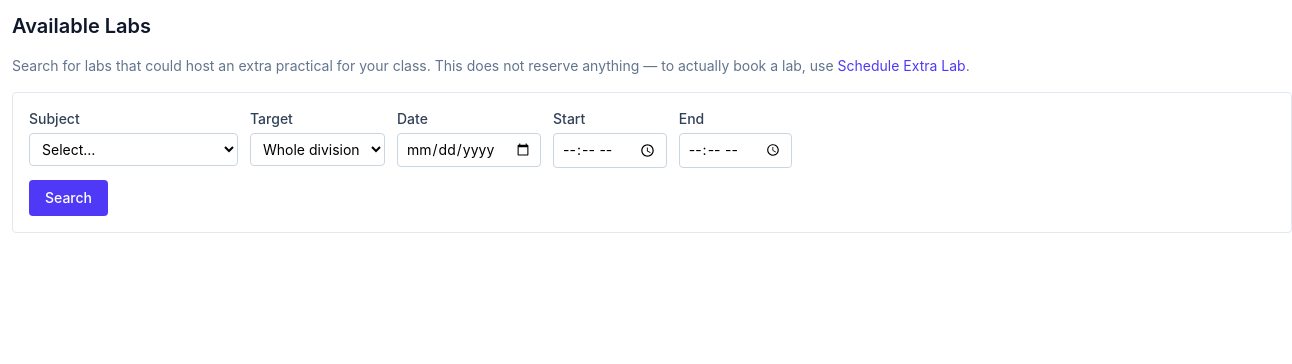
Test: AvailableLabsPage - PART 61/62/63/64/65 (mandatory scenarios) › PART 63 - explains a faculty conflict in plain language
The width and height of the screenshot is (1292, 364).
Step 1. Select "BDA — Big Data Analytics" in the dropdown labelled "Subject" → x=134, y=150, box [29,133,238,166]
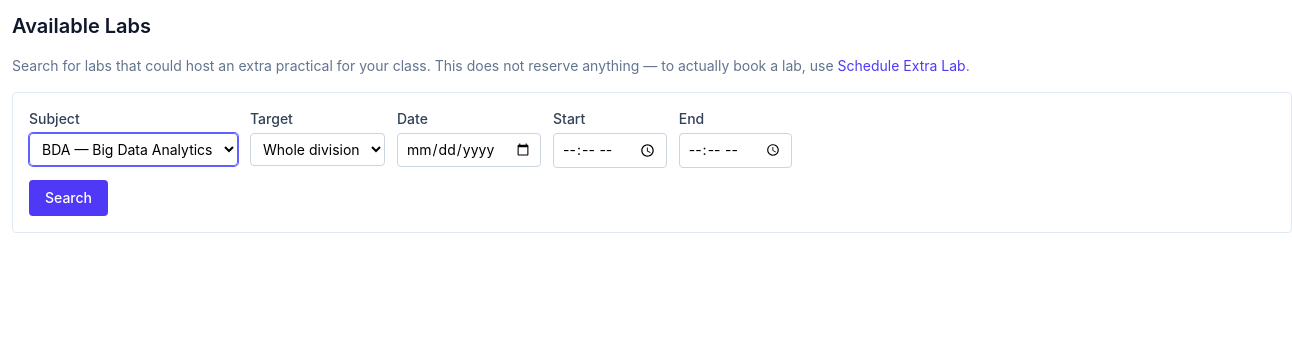
Step 2. Type "2026-08-31" into the date field labelled "Date" → x=469, y=150, box [397,133,541,167]
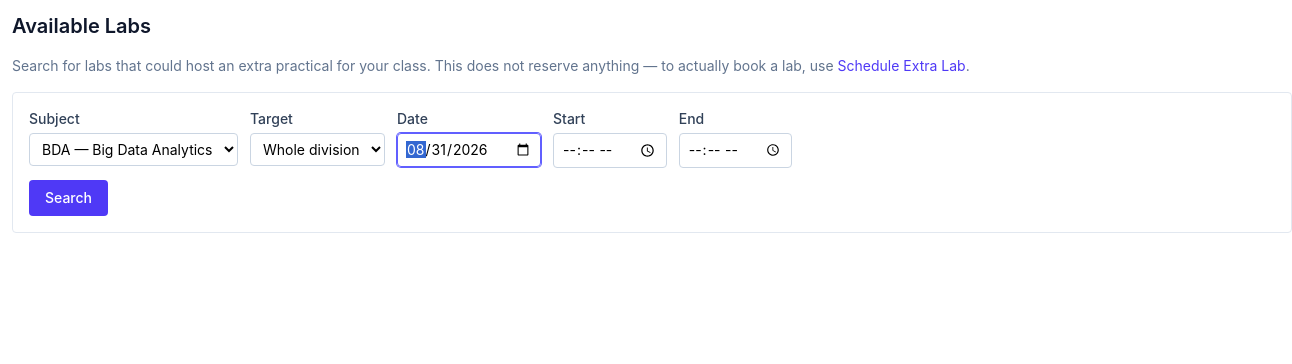
Step 3. Type "09:00" into the time field labelled "Start" → x=610, y=150, box [553,133,667,168]
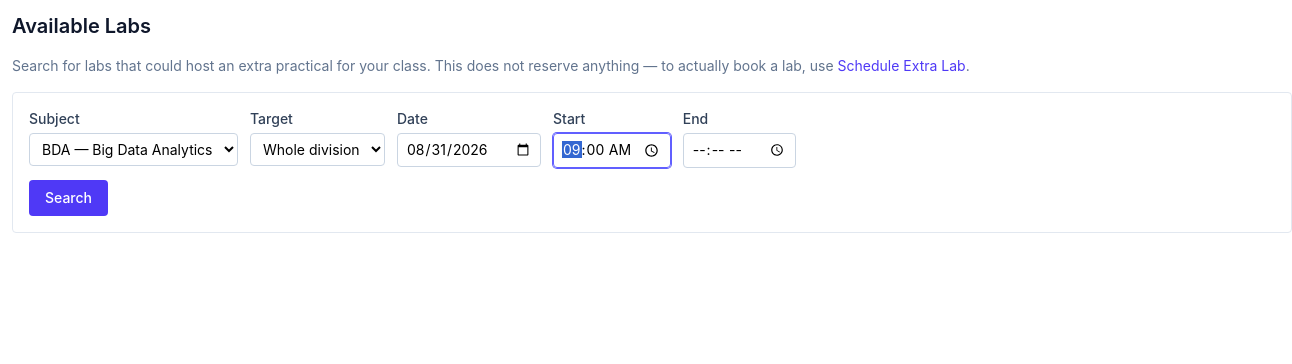
Step 4. Type "11:00" into the time field labelled "End" → x=740, y=150, box [683,133,796,168]
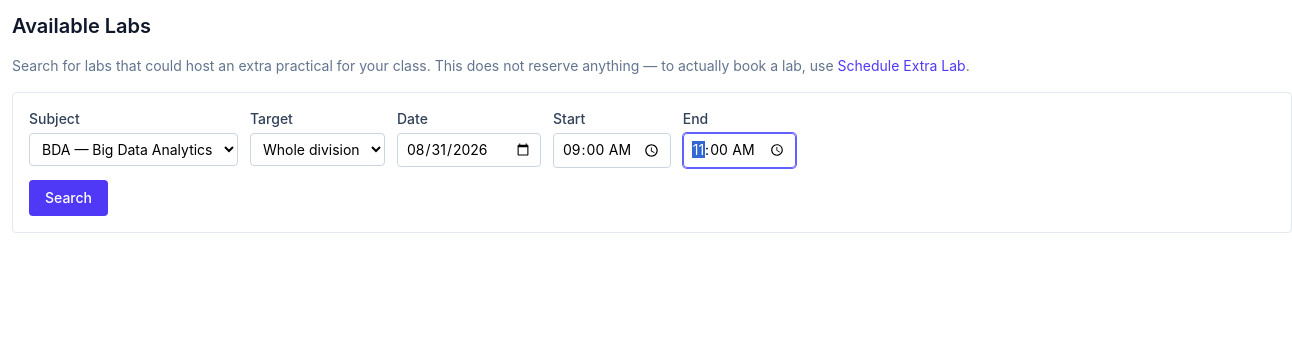
Step 5. Click the button "Search" → x=68, y=198, box [29,180,108,216]
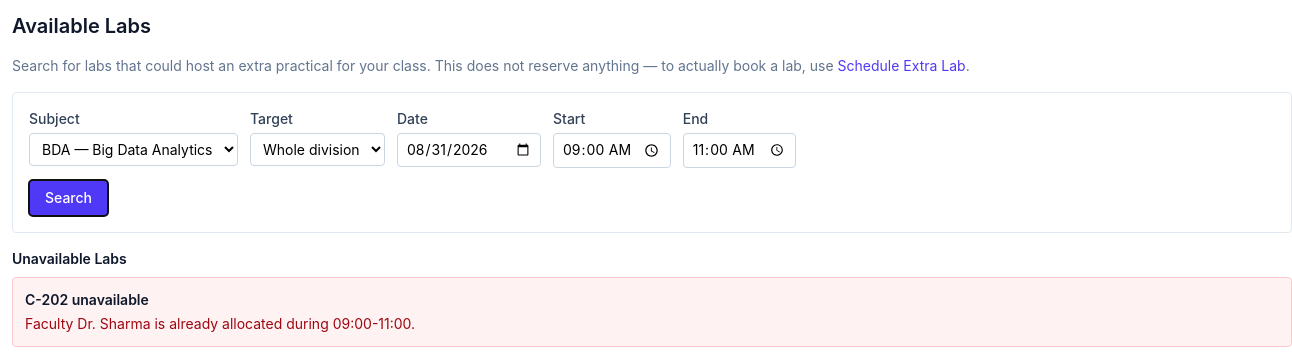
Expected: the list item "Faculty Dr. Sharma is already allocated during 09:00-11:00." is shown, [25,315,415,332]
